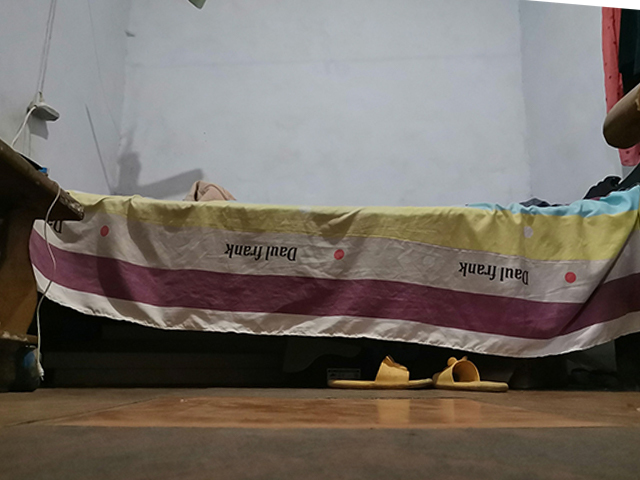bed: (30, 184, 640, 391)
slippers: (323, 354, 511, 392)
wire: (7, 101, 63, 382)
